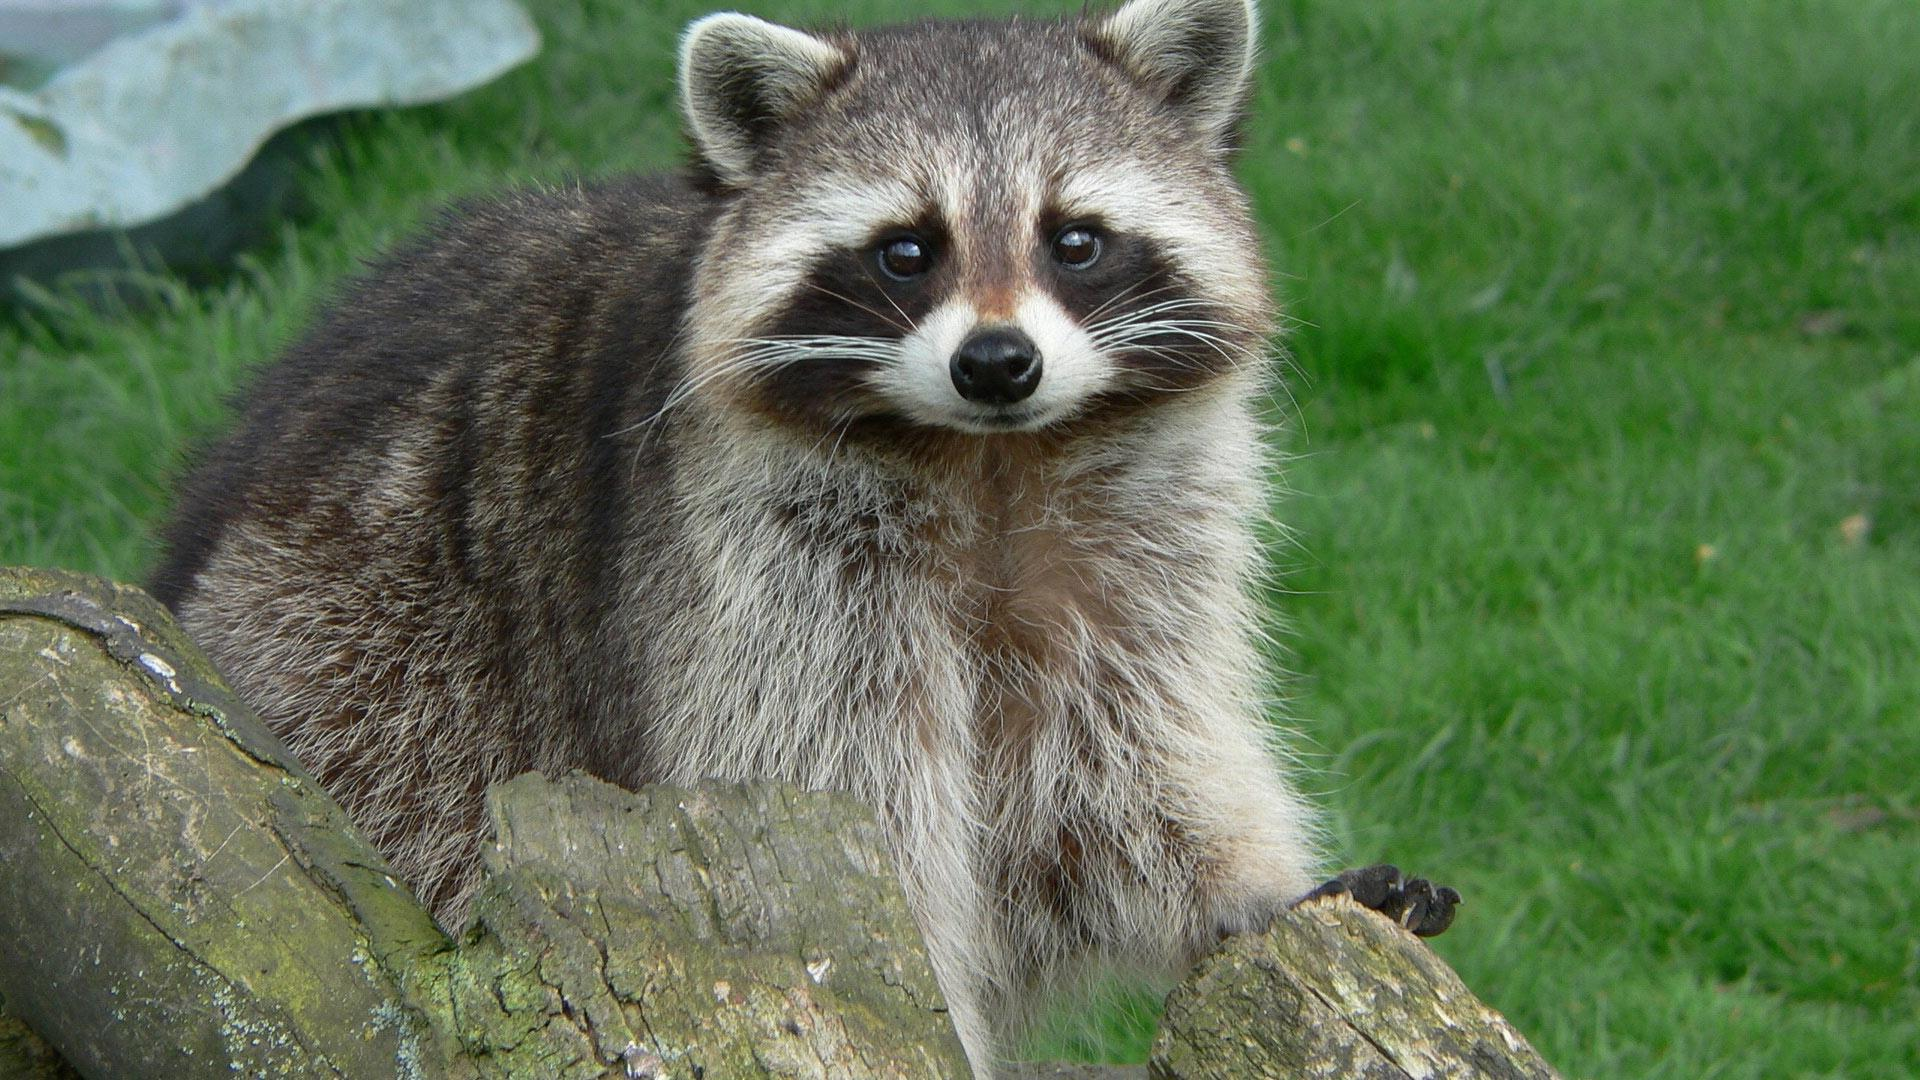raccoon: (148, 0, 1447, 1017)
